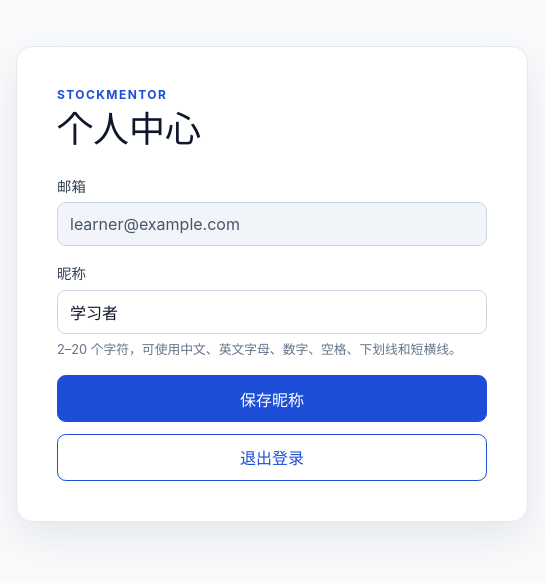
Test case: ProfileView › updates through the store, disables while pending, and gives immediate success feedback
Replace the text in the field labelled "昵称" with "长期学习者" at (272, 312), box [57,290,487,334]
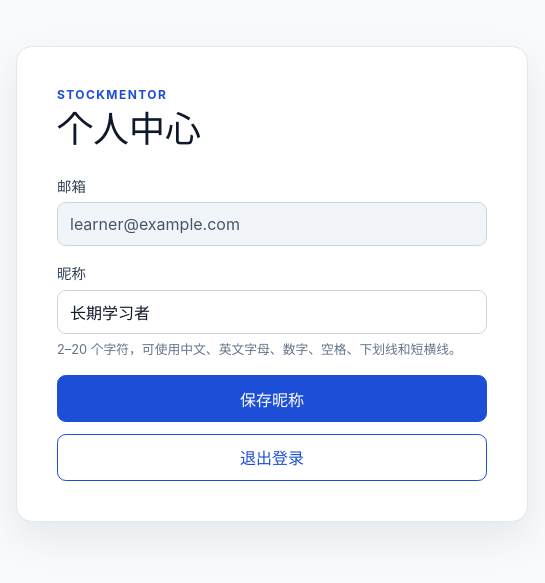
Submit the form, box [57,175,487,422]
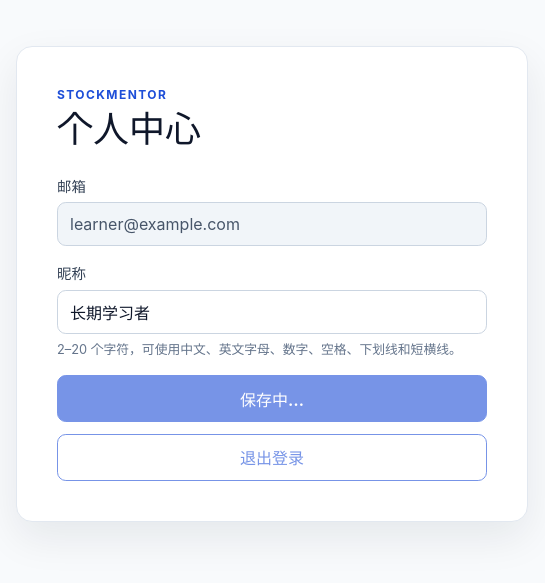
Check: the button with test id "profile-save" is disabled, box [57,375,487,422]
Check: the button with test id "profile-save" shows "保存中", box [57,375,487,422]
Check: the button with test id "profile-logout" is disabled
Click the button with test id "profile-logout" at (272, 458), box [57,434,487,481]
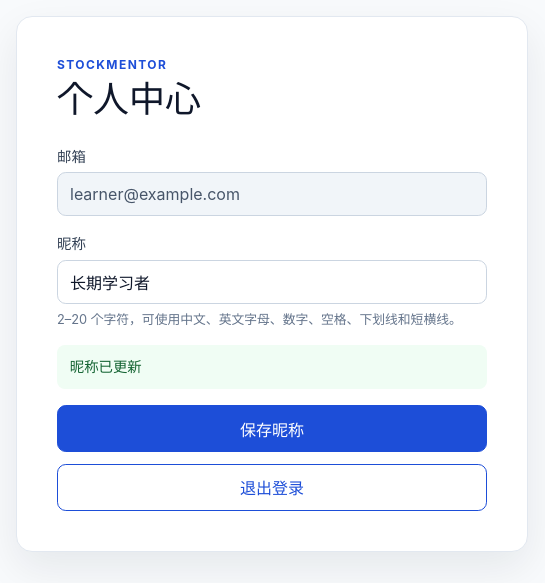
Check: the message "昵称已更新" is shown, box [57,345,487,389]
Check: the button with test id "profile-save" is enabled, box [57,405,487,452]
Check: the button with test id "profile-logout" is enabled, box [57,464,487,511]
